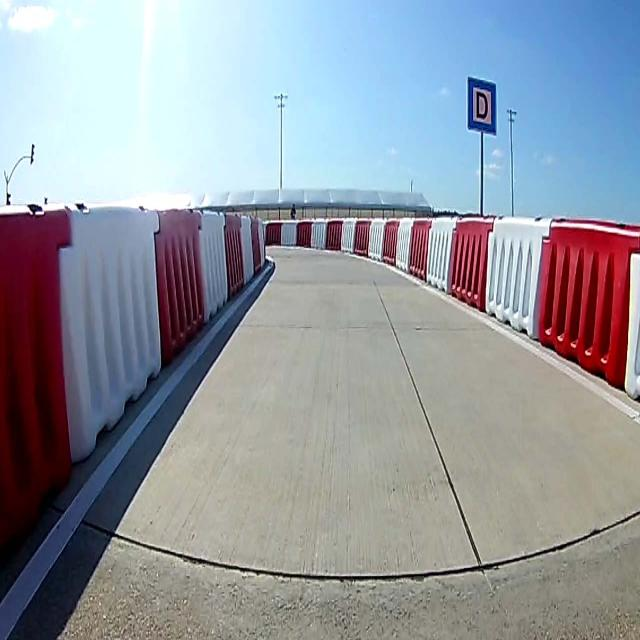durak: (467, 77, 497, 136)
